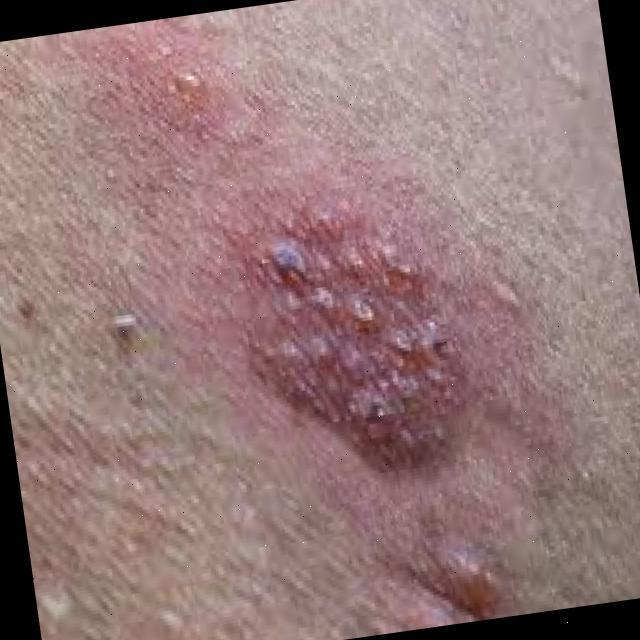Shingles: (243, 198, 462, 480)
